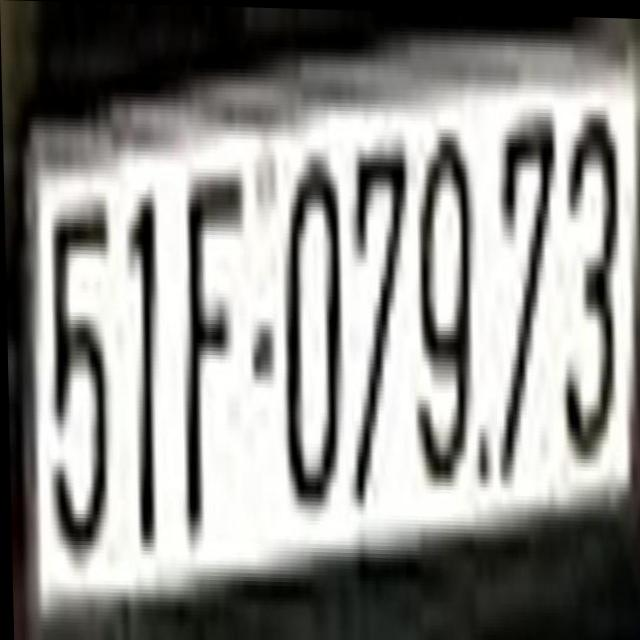0: (275, 134, 342, 528)
1: (119, 185, 160, 570)
3: (557, 106, 622, 480)
5: (47, 183, 112, 557)
7: (342, 116, 411, 537), (490, 104, 556, 490)
9: (411, 111, 470, 496)
F: (174, 174, 249, 549)
